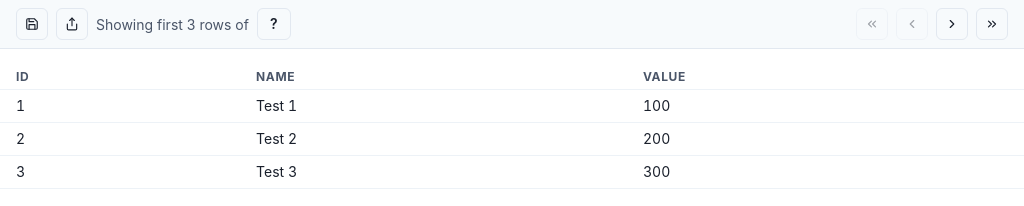
it: PaginatedQueryResult › fetches and displays total count when count button is clicked
expect the text "Showing first 3 rows of" is shown: met, box [96,14,249,34]
// Click the count button
What coordinates should you click on to do the following:
click the button "?"
I would click on:
 (274, 24)
Its box is [257,8,290,40].
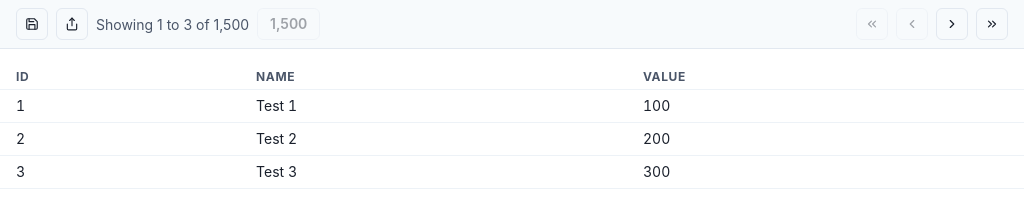
expect the button "1,500" is shown: met, box [257,8,320,40]
expect the text "Showing 1 to 3 of 1,500" is shown: met, box [96,14,249,34]
